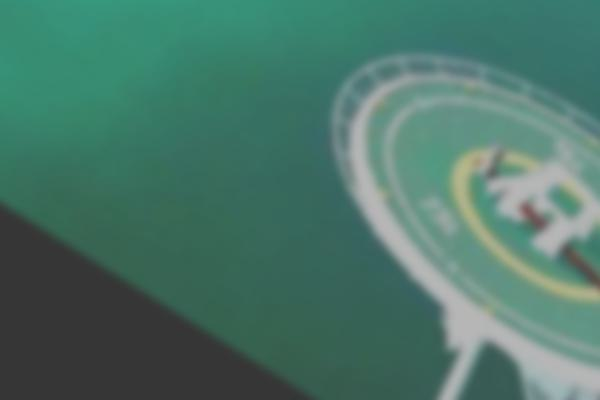Apron: (449, 148, 600, 307)
